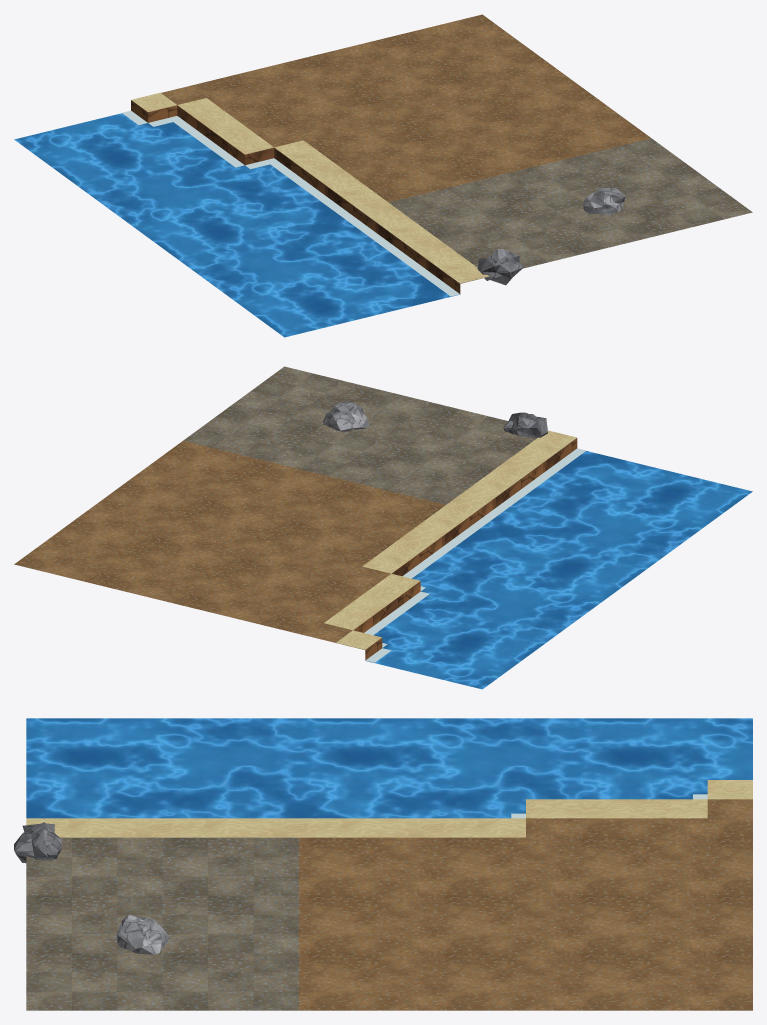
File: chunk_4_17.glb
3 renders of one model, top to bottom at view 1: azimuth 30°, elevation 25°; view 2: azimuth 150°, elevation 25°; view 3: azimuth 270°, elevation 25°, orthographic. The views are drawn at different scales.
Visible parts, largest first — view 1: chunk_4_17; view 2: chunk_4_17; view 3: chunk_4_17.
Boxes of the visible parts, <box> form: chunk_4_17: <box>14,14,752,337</box>; chunk_4_17: <box>14,366,752,689</box>; chunk_4_17: <box>14,718,752,1010</box>.
Bounding box in the file's own units: 16 × 1.02 × 16.27.
10 materials, 9 textured.
